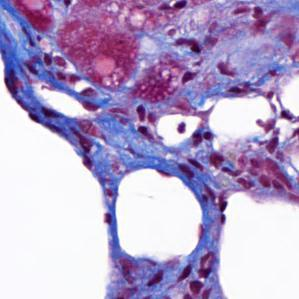inflammation: (170, 34, 220, 58), (130, 102, 159, 141), (196, 249, 217, 282), (189, 127, 216, 150)
